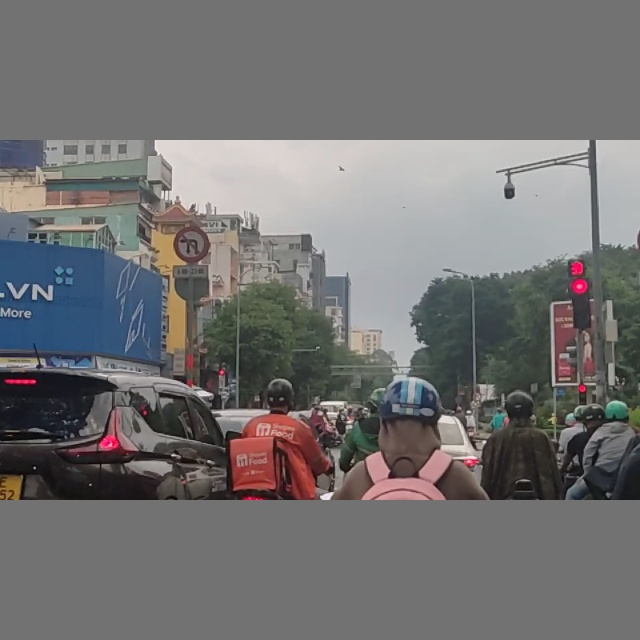P.124c: (173, 225, 210, 263)
